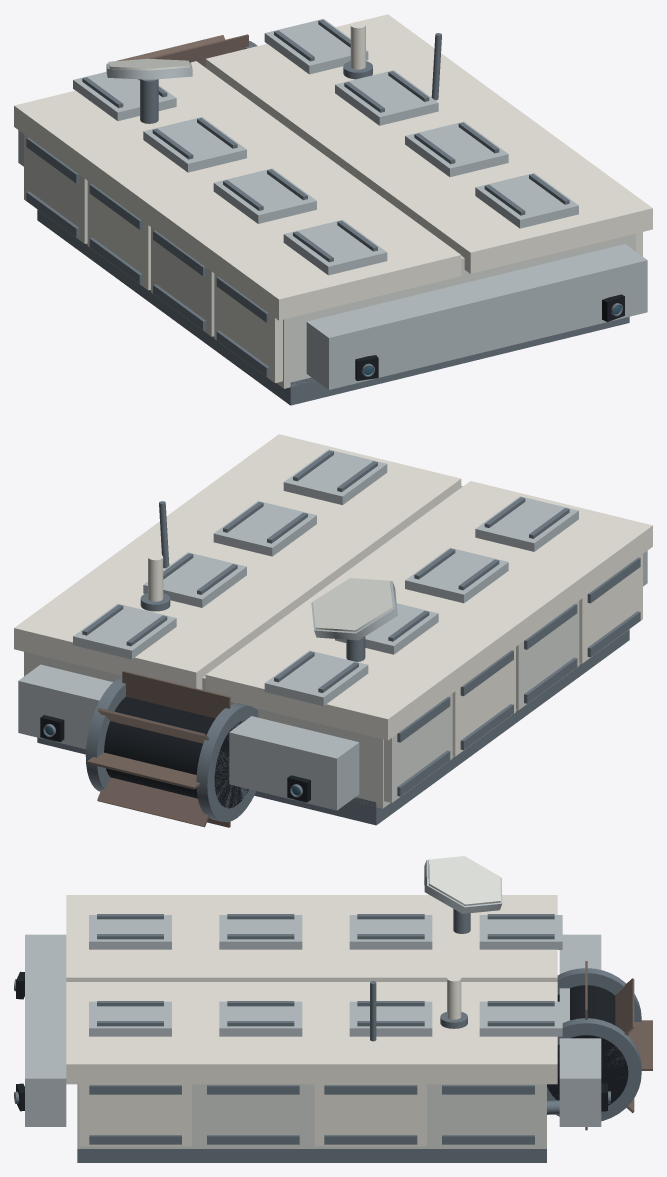
The model's file is curiosity_body.glb.
3 renders of one model, top to bottom at view 1: azimuth 30°, elevation 25°; view 2: azimuth 150°, elevation 25°; view 3: azimuth 270°, elevation 25°, orthographic. The views are drawn at different scales.
Parts seen in each view (by area): view 1: curiosity_body.deck.mesh_Warm_white_enamel, curiosity_body.front_equipment.mesh_Satin_aluminum, curiosity_body.deck.mesh_Satin_aluminum, curiosity_body.mesh_Machined_steel, curiosity_body.mesh_Pale_thermal_blanket, curiosity_body.mesh_Warm_white_enamel, curiosity_body.deck.mesh_Machined_steel, curiosity_body.power_comms.mmrtg.mesh_Heat-stained_alloy, curiosity_body.power_comms.high_gain.elevation.mesh_Satin_al, curiosity_body.power_comms.high_gain.mesh_Machined_steel, curiosity_body.power_comms.high_gain.elevation.mesh_Pale_the, curiosity_body.power_comms.low_gain.mesh_Warm_white_enamel; view 2: curiosity_body.deck.mesh_Warm_white_enamel, curiosity_body.deck.mesh_Satin_aluminum, curiosity_body.rear_equipment.mesh_Satin_aluminum, curiosity_body.mesh_Pale_thermal_blanket, curiosity_body.mesh_Machined_steel, curiosity_body.power_comms.mmrtg.mesh_Heat-stained_alloy, curiosity_body.power_comms.mmrtg.mesh_Carbon_composite, curiosity_body.mesh_Warm_white_enamel, curiosity_body.power_comms.mmrtg.mesh_Machined_steel, curiosity_body.deck.mesh_Machined_steel, curiosity_body.power_comms.high_gain.elevation.mesh_Pale_the, curiosity_body.power_comms.high_gain.elevation.mesh_Satin_al (+1 smaller); view 3: curiosity_body.deck.mesh_Warm_white_enamel, curiosity_body.deck.mesh_Satin_aluminum, curiosity_body.mesh_Machined_steel, curiosity_body.mesh_Pale_thermal_blanket, curiosity_body.mesh_Warm_white_enamel, curiosity_body.front_equipment.mesh_Satin_aluminum, curiosity_body.deck.mesh_Machined_steel, curiosity_body.rear_equipment.mesh_Satin_aluminum, curiosity_body.power_comms.mmrtg.mesh_Machined_steel, curiosity_body.power_comms.mmrtg.mesh_Carbon_composite, curiosity_body.power_comms.high_gain.elevation.mesh_Pale_the, curiosity_body.power_comms.mmrtg.mesh_Heat-stained_alloy (+2 smaller).
Boxes of the visible parts, left/top/right/bottom form: curiosity_body.deck.mesh_Warm_white_enamel: left=14, top=14, right=652, bottom=320; curiosity_body.front_equipment.mesh_Satin_aluminum: left=306, top=244, right=647, bottom=389; curiosity_body.deck.mesh_Satin_aluminum: left=73, top=19, right=578, bottom=275; curiosity_body.mesh_Machined_steel: left=26, top=137, right=629, bottom=405; curiosity_body.mesh_Pale_thermal_blanket: left=24, top=134, right=635, bottom=388; curiosity_body.mesh_Warm_white_enamel: left=87, top=181, right=642, bottom=382; curiosity_body.deck.mesh_Machined_steel: left=82, top=19, right=569, bottom=262; curiosity_body.power_comms.mmrtg.mesh_Heat-stained_alloy: left=116, top=34, right=248, bottom=67; curiosity_body.power_comms.high_gain.elevation.mesh_Satin_al: left=106, top=62, right=192, bottom=79; curiosity_body.power_comms.high_gain.mesh_Machined_steel: left=140, top=79, right=158, bottom=123; curiosity_body.power_comms.high_gain.elevation.mesh_Pale_the: left=108, top=58, right=190, bottom=70; curiosity_body.power_comms.low_gain.mesh_Warm_white_enamel: left=350, top=21, right=365, bottom=69; curiosity_body.deck.mesh_Warm_white_enamel: left=14, top=434, right=652, bottom=740; curiosity_body.deck.mesh_Satin_aluminum: left=73, top=449, right=578, bottom=706; curiosity_body.rear_equipment.mesh_Satin_aluminum: left=18, top=664, right=359, bottom=810; curiosity_body.mesh_Pale_thermal_blanket: left=24, top=601, right=580, bottom=808; curiosity_body.mesh_Machined_steel: left=37, top=557, right=640, bottom=825; curiosity_body.power_comms.mmrtg.mesh_Heat-stained_alloy: left=87, top=670, right=234, bottom=827; curiosity_body.power_comms.mmrtg.mesh_Carbon_composite: left=104, top=696, right=249, bottom=808; curiosity_body.mesh_Warm_white_enamel: left=452, top=554, right=642, bottom=756; curiosity_body.power_comms.mmrtg.mesh_Machined_steel: left=85, top=677, right=258, bottom=822; curiosity_body.deck.mesh_Machined_steel: left=82, top=450, right=569, bottom=692; curiosity_body.power_comms.high_gain.elevation.mesh_Pale_the: left=313, top=578, right=393, bottom=631; curiosity_body.power_comms.high_gain.elevation.mesh_Satin_al: left=311, top=581, right=397, bottom=640; curiosity_body.deck.mesh_Warm_white_enamel: left=66, top=895, right=557, bottom=1084; curiosity_body.deck.mesh_Satin_aluminum: left=89, top=915, right=562, bottom=1036; curiosity_body.mesh_Machined_steel: left=77, top=1085, right=546, bottom=1162; curiosity_body.mesh_Pale_thermal_blanket: left=77, top=1084, right=546, bottom=1148; curiosity_body.mesh_Warm_white_enamel: left=79, top=1084, right=426, bottom=1146; curiosity_body.front_equipment.mesh_Satin_aluminum: left=25, top=934, right=66, bottom=1126; curiosity_body.deck.mesh_Machined_steel: left=97, top=914, right=554, bottom=1026; curiosity_body.rear_equipment.mesh_Satin_aluminum: left=559, top=934, right=601, bottom=1126; curiosity_body.power_comms.mmrtg.mesh_Machined_steel: left=547, top=968, right=641, bottom=1121; curiosity_body.power_comms.mmrtg.mesh_Carbon_composite: left=547, top=985, right=628, bottom=1105; curiosity_body.power_comms.high_gain.elevation.mesh_Pale_the: left=428, top=856, right=500, bottom=905; curiosity_body.power_comms.mmrtg.mesh_Heat-stained_alloy: left=585, top=961, right=652, bottom=1130.
Size of the model in its own units: 2.03 by 1.05 by 3.24.
